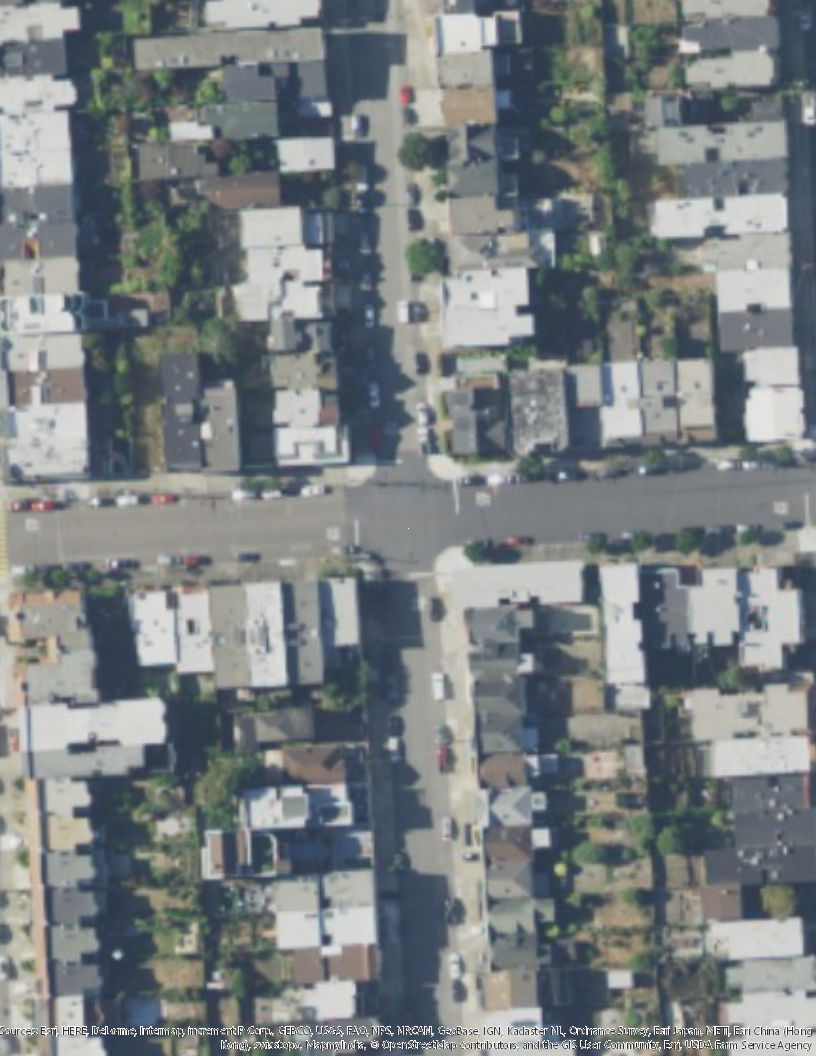zebracross: (1, 507, 7, 570)
